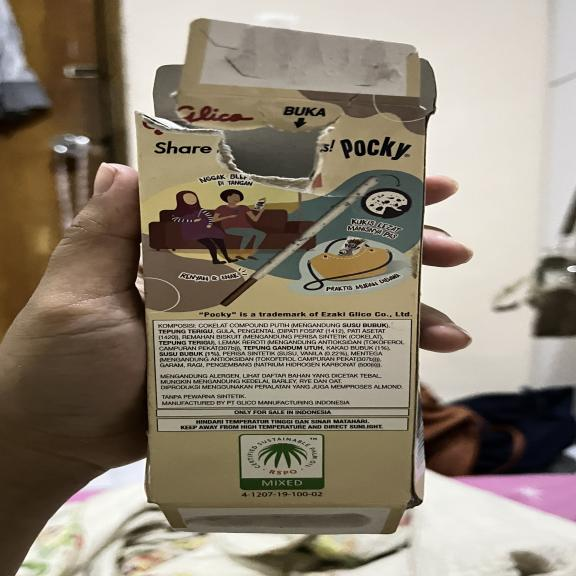Kertas: (132, 99, 432, 506)
